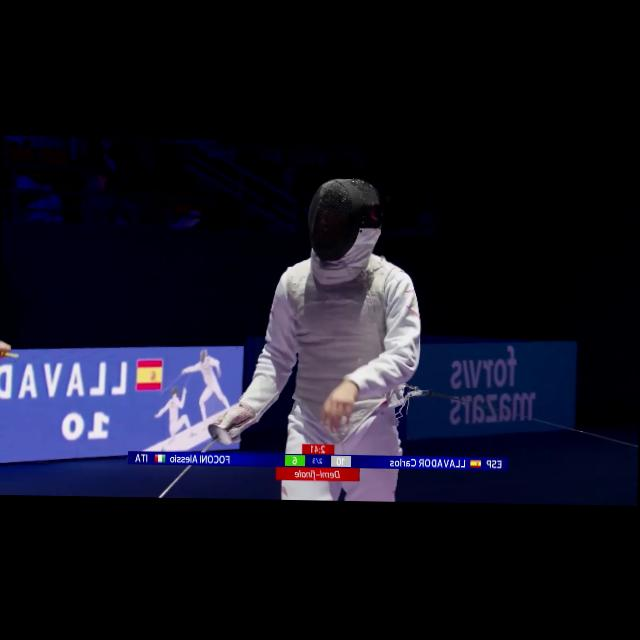blade: (150, 427, 228, 498)
